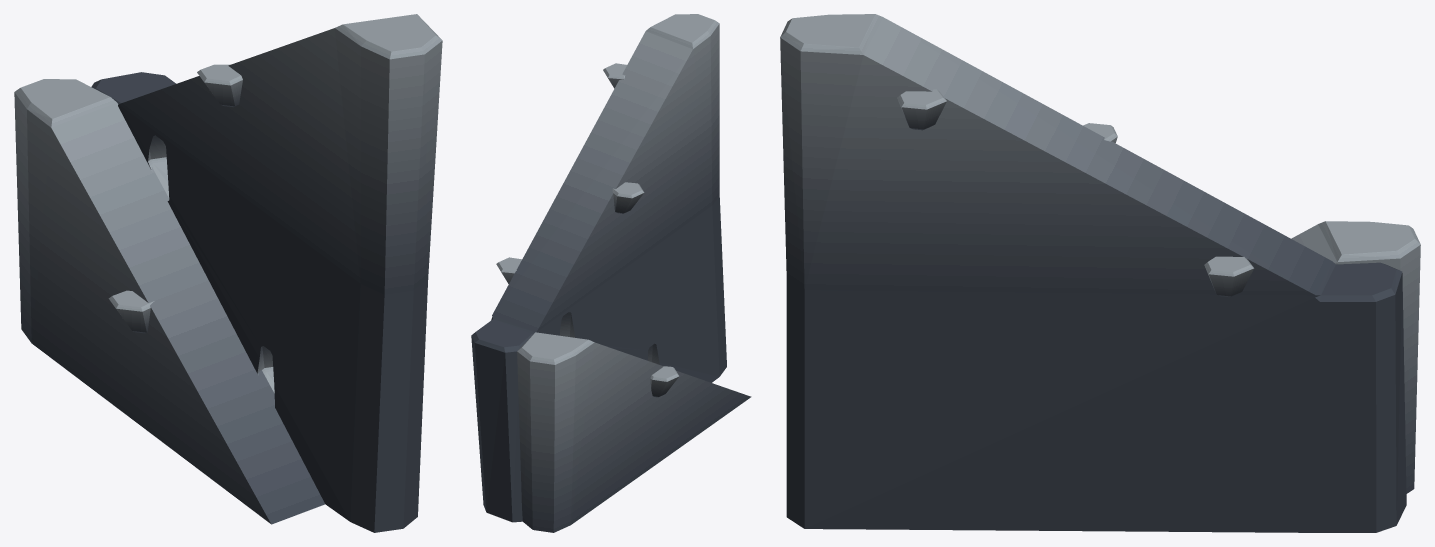
The model's file is sm_forest_mountain2.fbx.
3 renders of one model, left to right at view 1: azimuth 30°, elevation 25°; view 2: azimuth 150°, elevation 25°; view 3: azimuth 270°, elevation 25°, orthographic. The views are drawn at different scales.
Parts seen in each view (by area): view 1: Cube.053; view 2: Cube.053; view 3: Cube.053.
Boxes of the visible parts, box(x1,y1,x2,y2) form: Cube.053: box(14, 14, 442, 532); Cube.053: box(471, 14, 751, 532); Cube.053: box(780, 14, 1420, 532).
Bounding box in the file's own units: 2384 × 6257 × 5327.
